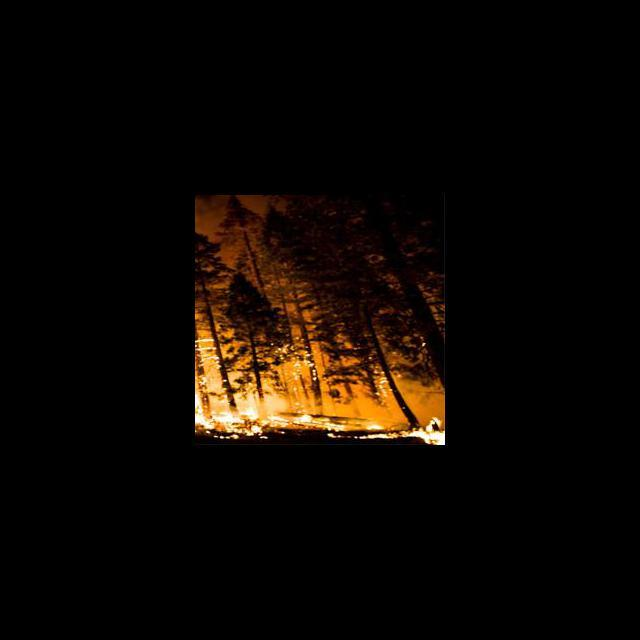Fire: (196, 317, 445, 444)
